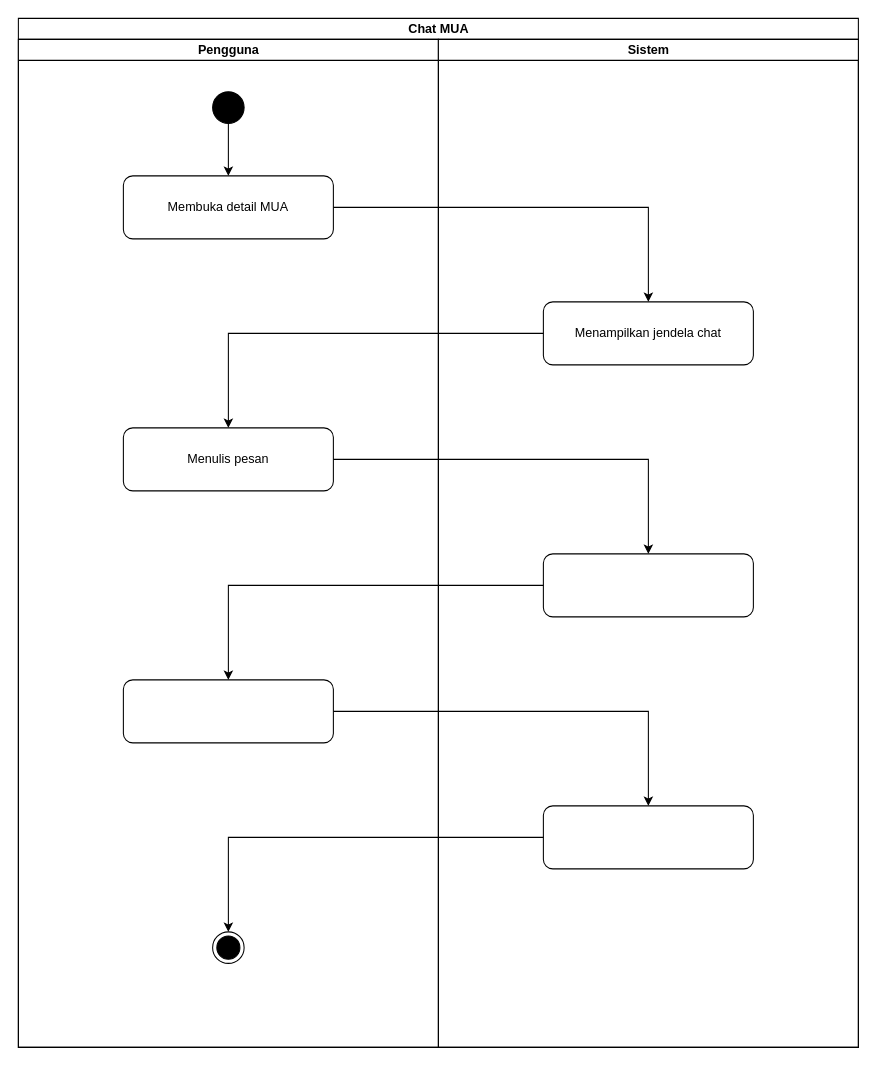
The diagram is 877 pixels wide and 1066 high, and some of its shapes have lost their labels. The shapes that lost their labels are listed below. From the top down, each one's centre as x and y in pixels, then its label:
At (x=647, y=585): "Mengirim pesan ke dashboard MUA".
At (x=227, y=711): "Klik kirim".
At (x=647, y=837): "Menyimpan histori chat".
